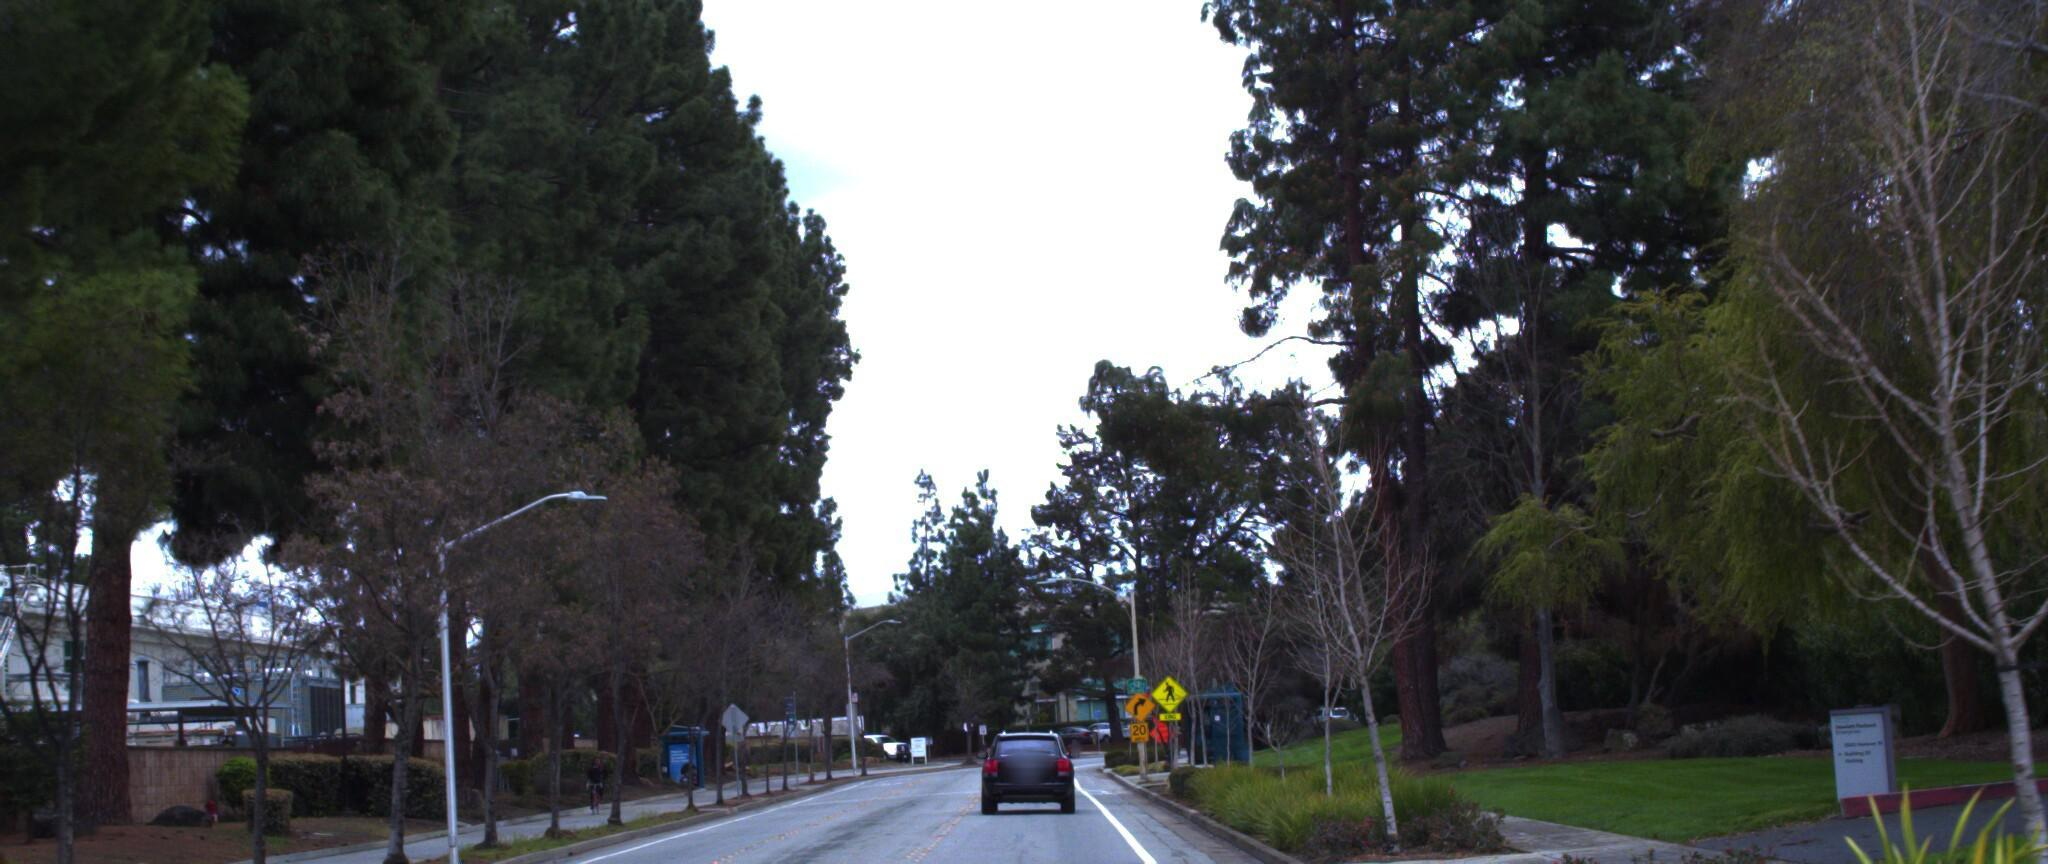car: (976, 719, 1079, 807)
